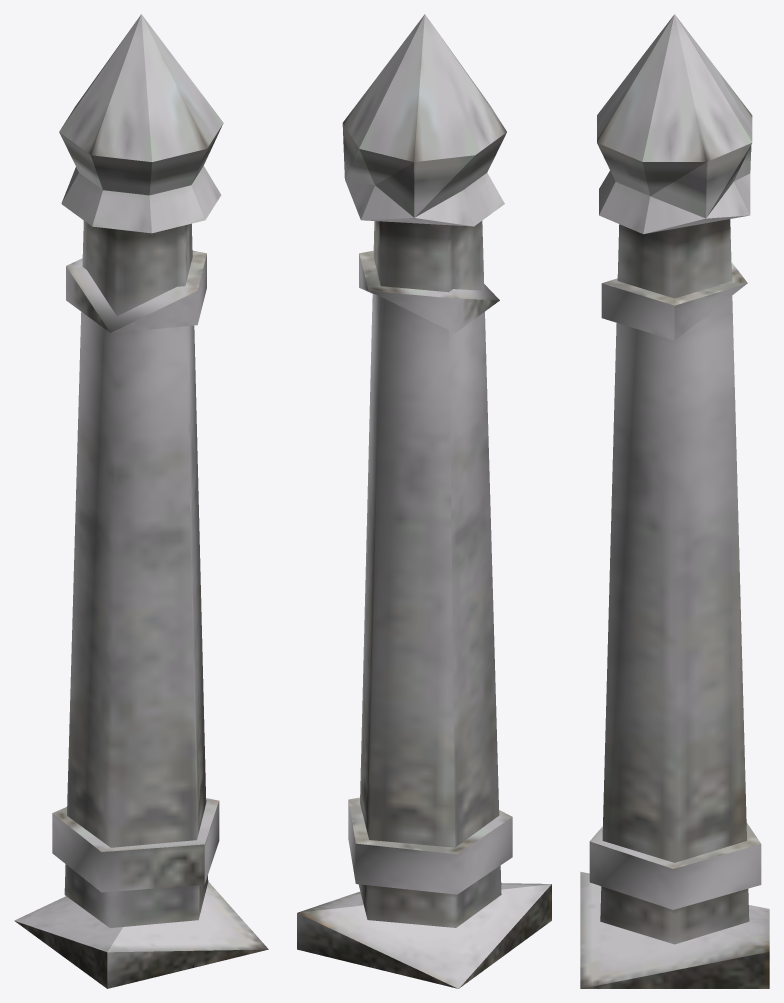
The model's file is general_obj_stonepillar_01_lod_01.glb.
The picture shows the model from 3 angles, left to right: view 1: azimuth 30°, elevation 25°; view 2: azimuth 150°, elevation 25°; view 3: azimuth 270°, elevation 25°; orthographic projection.
Visible parts, largest first — view 1: Object12; view 2: Object12; view 3: Object12.
Boxes of the visible parts, box(x1,y1,x2,y2) form: Object12: box(14, 14, 268, 988); Object12: box(297, 14, 551, 988); Object12: box(580, 14, 769, 988).
Bounding box in the file's own units: 0.9043 × 4.93 × 0.9043.
Materials: 1 (1 with a texture image).
